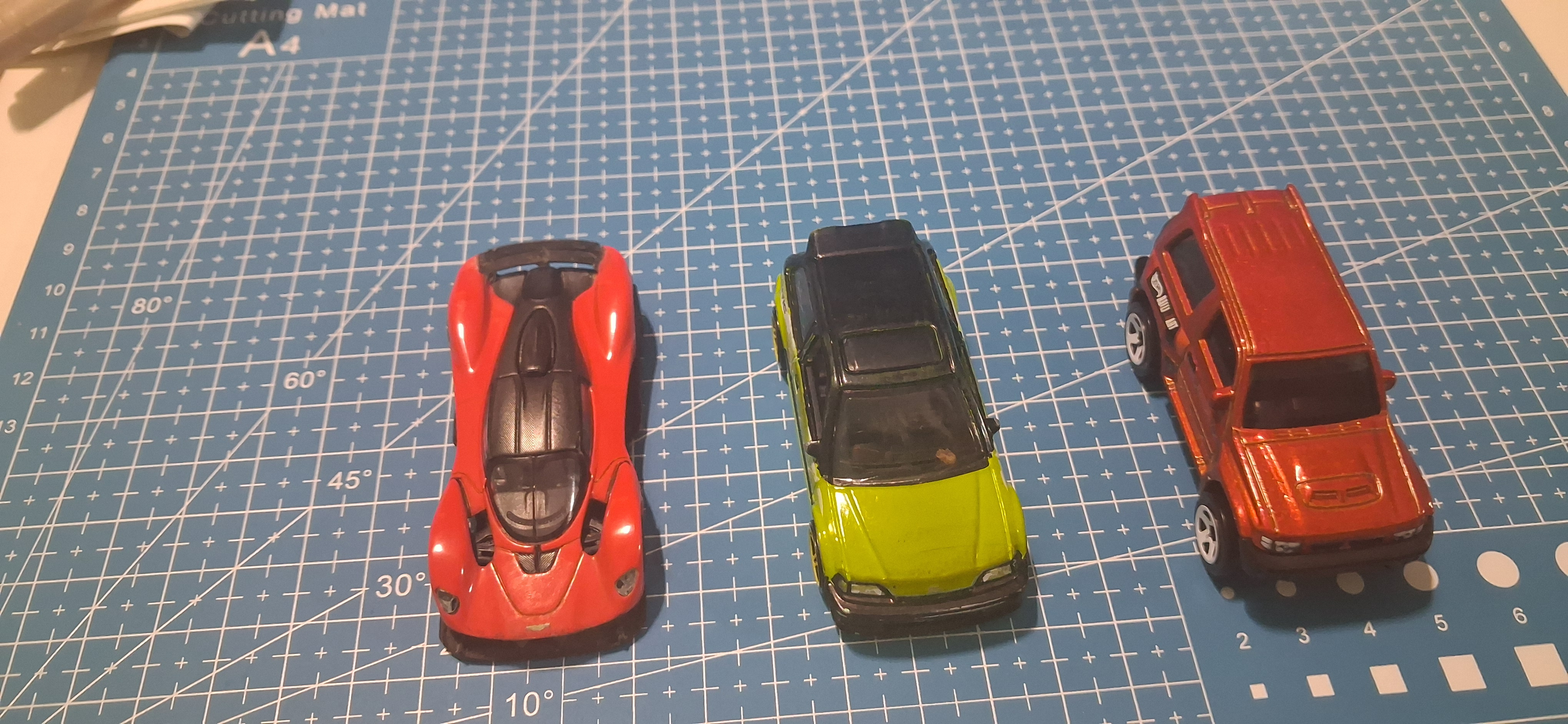Aston_Martin_Valkyrie: (406, 202, 678, 690)
Honda_Civic: (745, 195, 1050, 680)
Mitsubishi_Pajero_Evolution: (1110, 189, 1470, 617)
